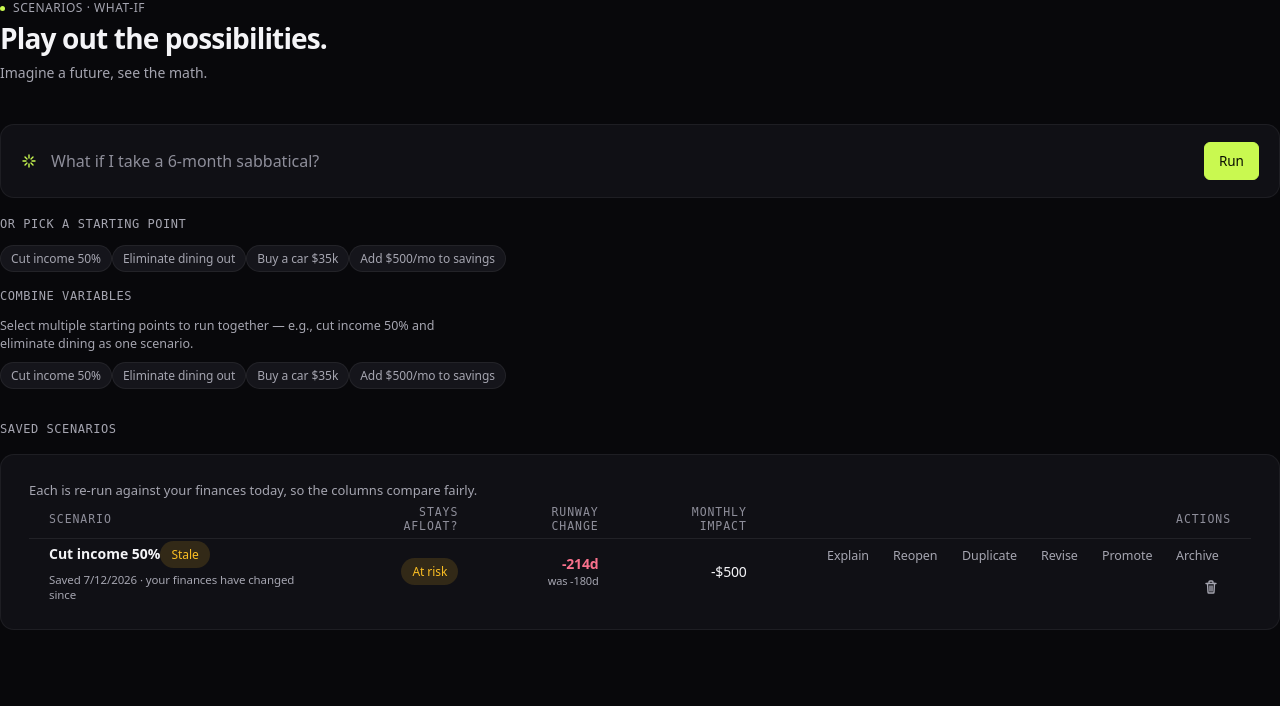
Test case: Scenarios screen › cannot re-apply a change already written to the plan (#72 no double-write)
The width and height of the screenshot is (1280, 706).
Click the button "Promote".
click(1127, 555)  # box [1090, 539, 1164, 571]
(page scrolled)
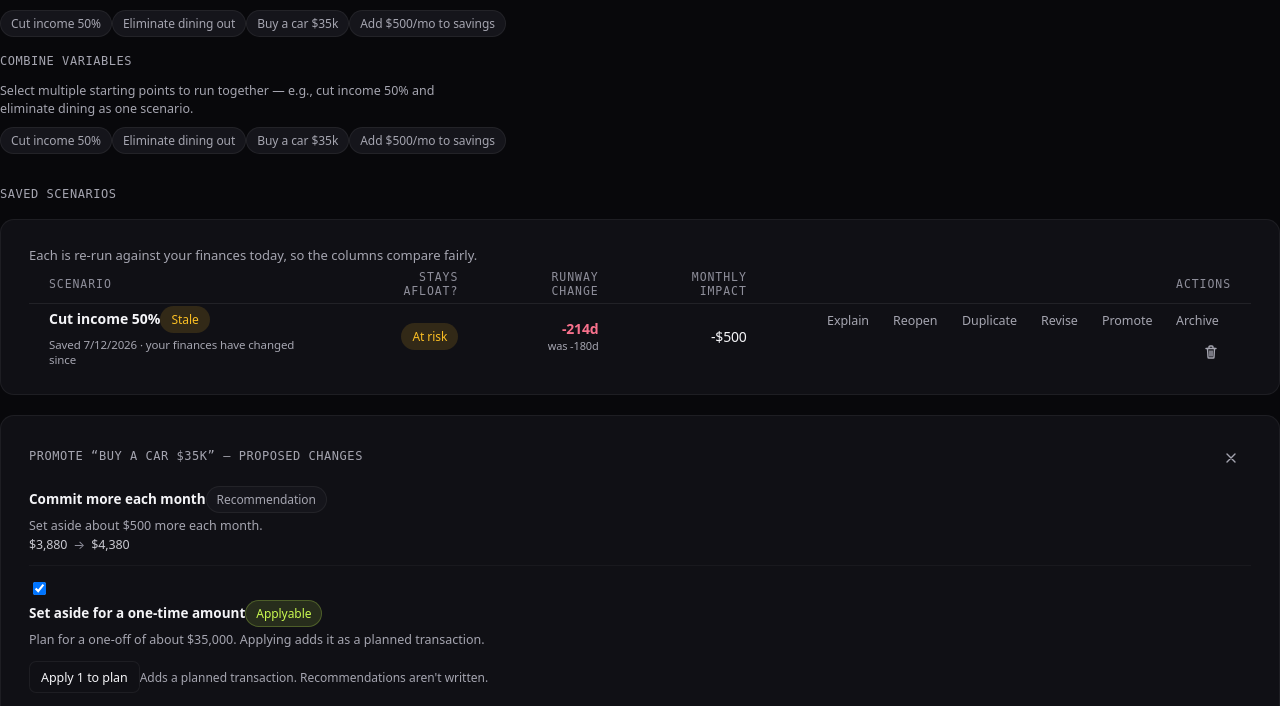
Click the button "Apply 1 to plan".
click(84, 677)  # box [29, 661, 140, 693]
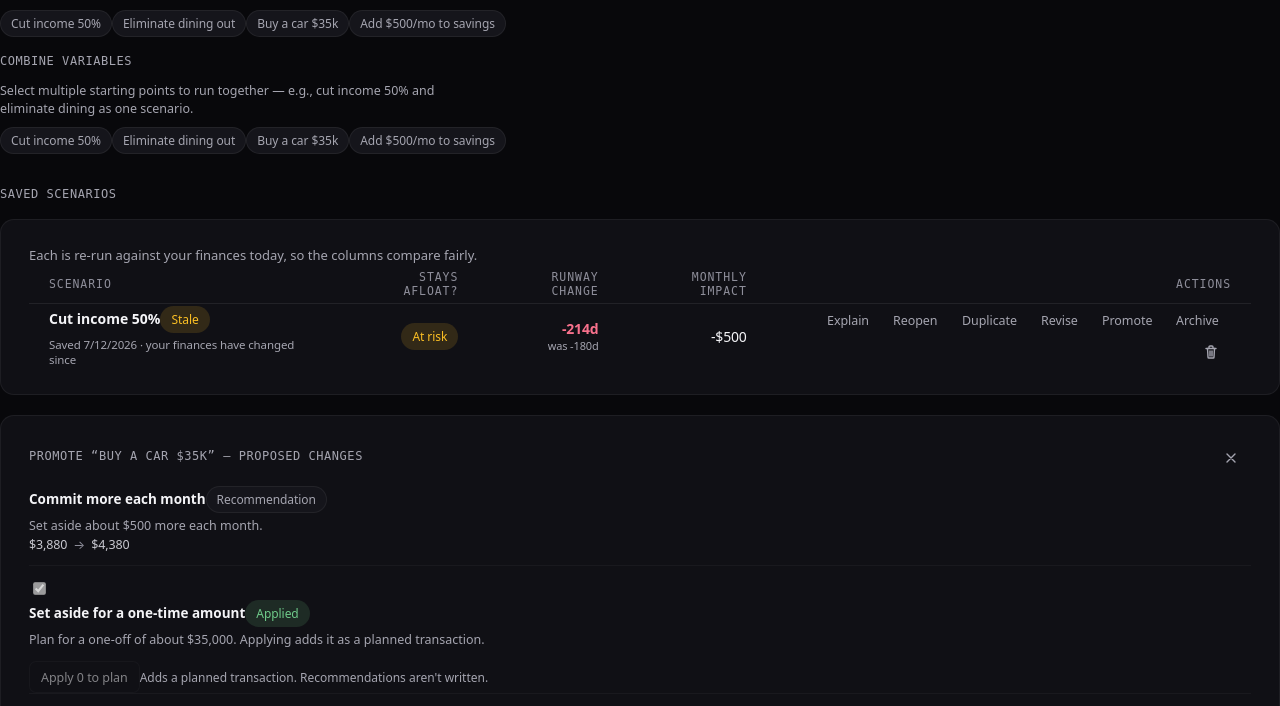
Expected: the text "Applied" is shown, [245, 600, 310, 626]
Expected: the button "Apply 0 to plan" is disabled, [29, 661, 140, 693]
